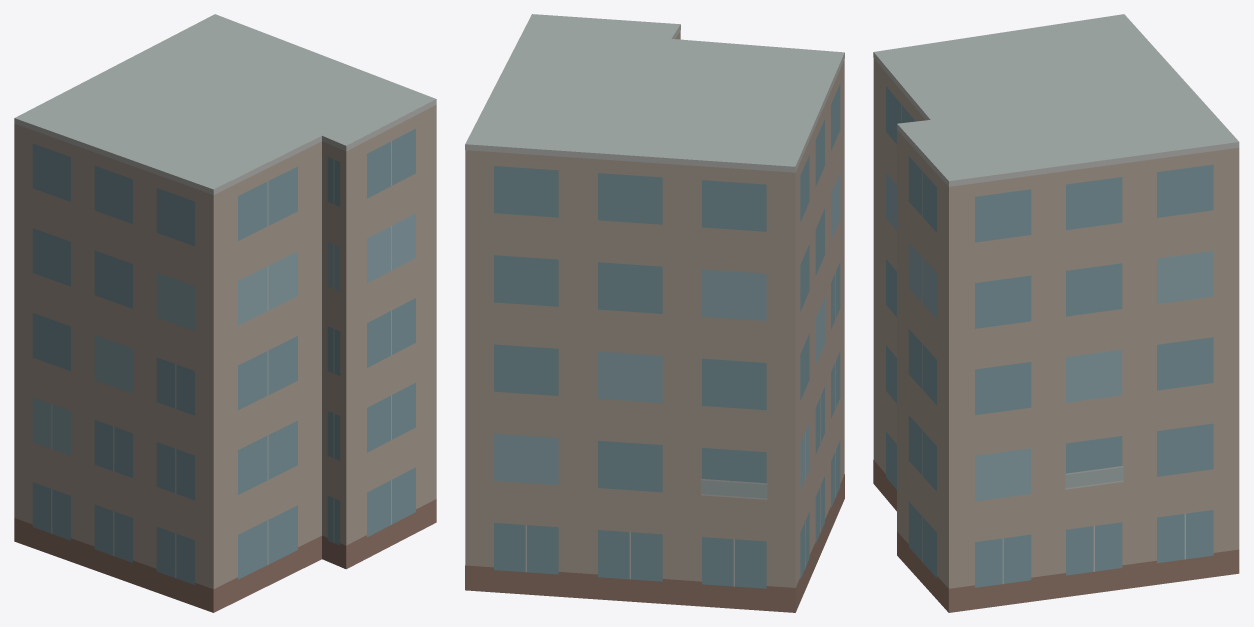
The model's file is survey-upis-32836144.glb.
3 renders of one model, left to right at view 1: azimuth 30°, elevation 25°; view 2: azimuth 150°, elevation 25°; view 3: azimuth 270°, elevation 25°, orthographic. The views are drawn at different scales.
Parts seen in each view (by area): view 1: survey-upis-32836144.tmp; view 2: survey-upis-32836144.tmp; view 3: survey-upis-32836144.tmp.
Boxes of the visible parts, <box> form: survey-upis-32836144.tmp: <box>14,14,436,612</box>; survey-upis-32836144.tmp: <box>465,14,844,612</box>; survey-upis-32836144.tmp: <box>873,14,1239,612</box>.
Bounding box in the file's own units: 15.38 × 18.5 × 14.22.
